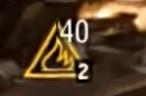2fire: (17, 40, 93, 83)
